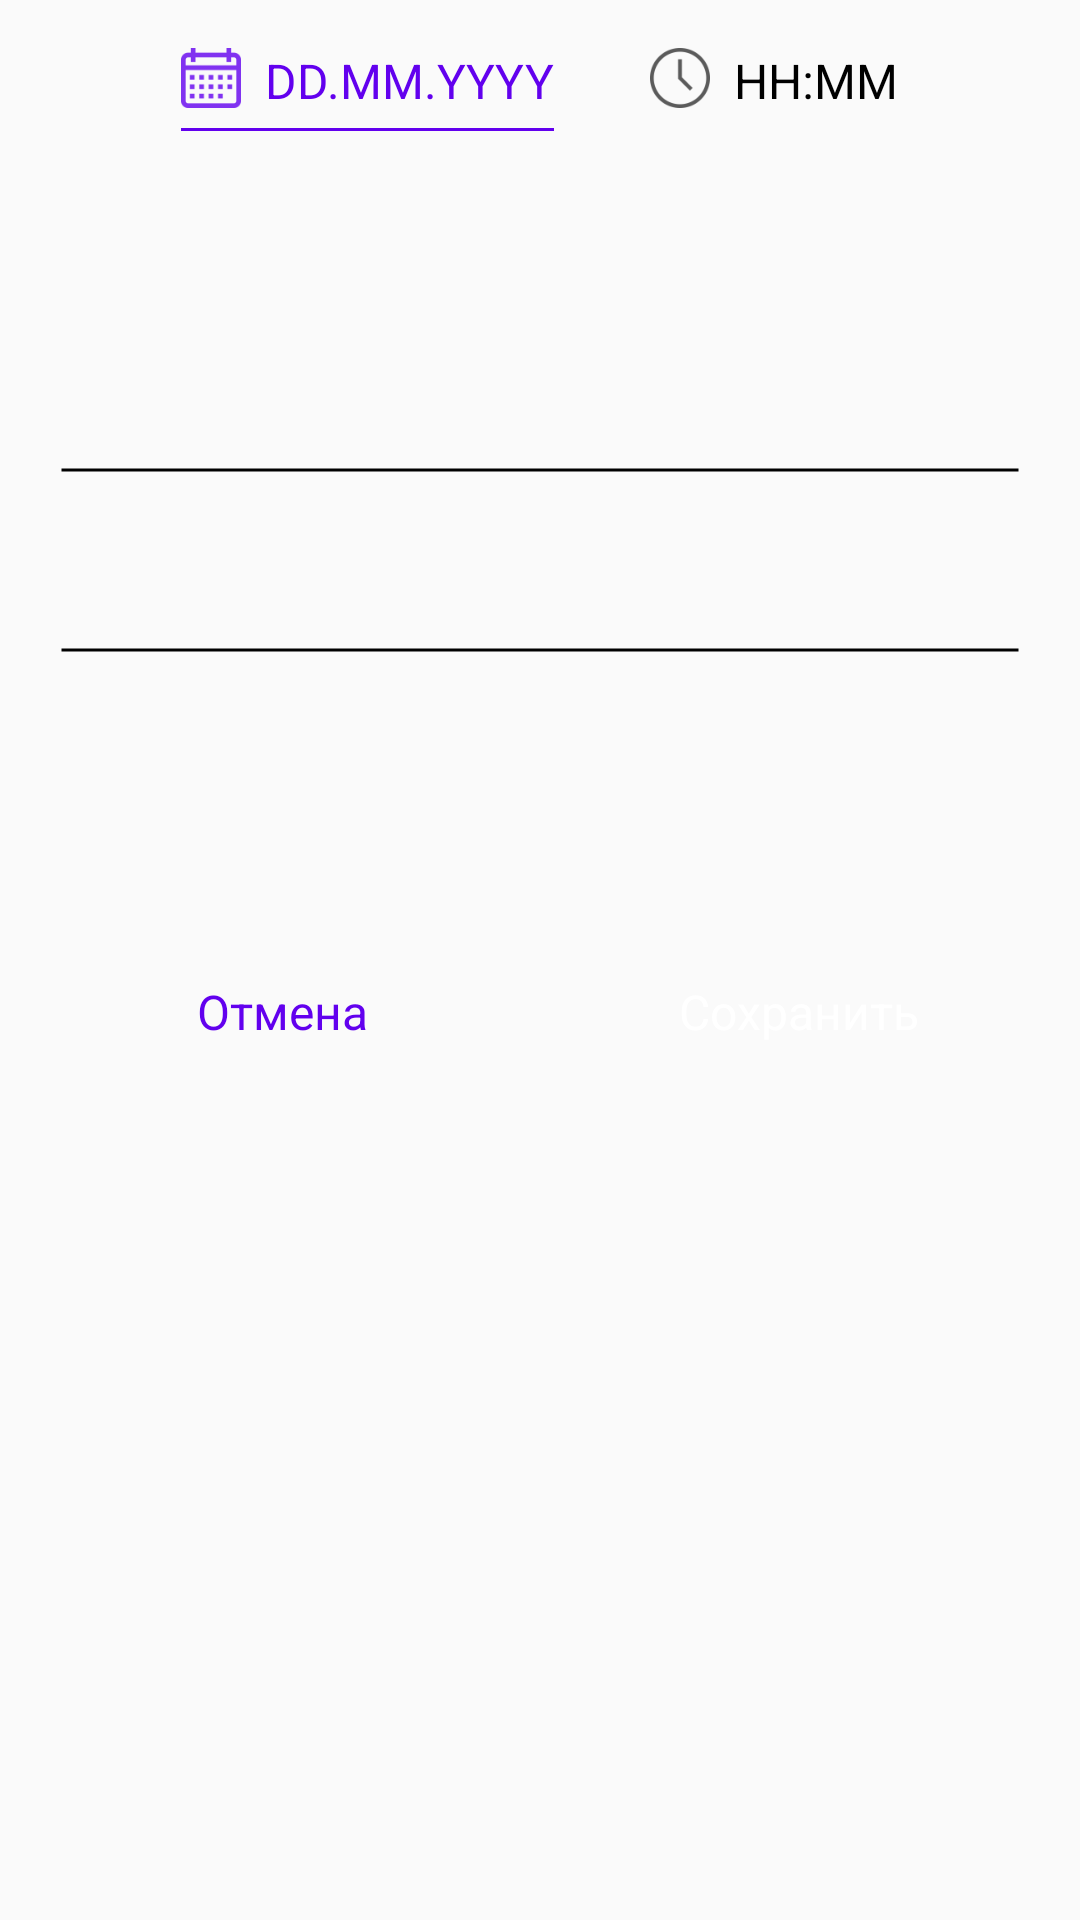

Named icons in this screenshot (1080px x 1920px) and their bounding boxes, [x1,y1,x2,y2]:
calendar: [181,48,241,108]
clock: [650,48,710,108]
